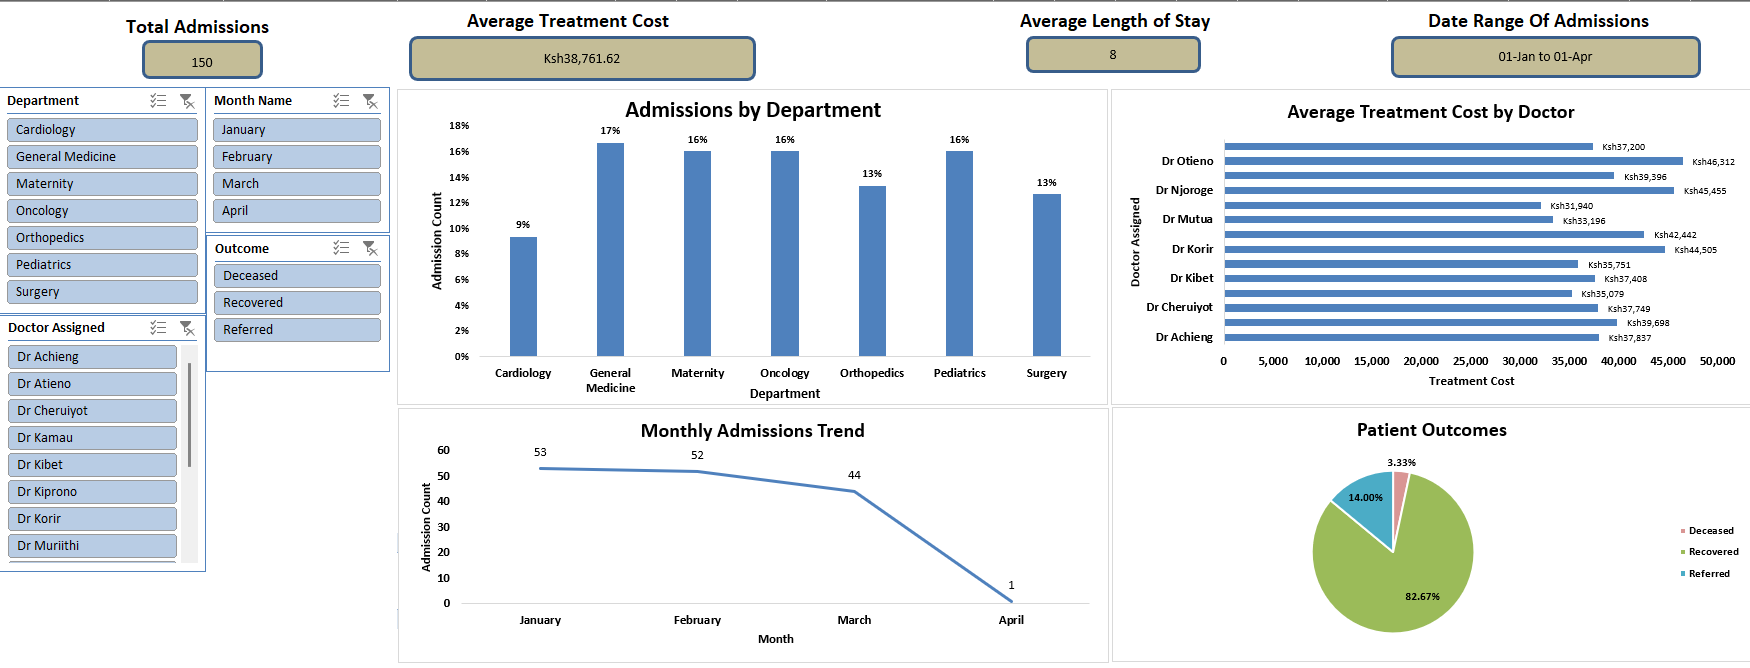

What the dashboard file says about the page in this screenshot:
{"tool":"powerbi","page":{"name":"Admissions Dashboard","canvas":[1280,720],"ordinal":0},"visuals":[{"type":"shape","box":[239.1,16.1,809.6,48.4],"z":0},{"type":"card","fields":{"Values":["HospitalData.Total Admissions"]},"box":[29,72,185.4,80.6],"z":1000,"group":"g1"},{"type":"shape","box":[13.4,166.6,175.5,491.6],"z":1000},{"type":"card","fields":{"Values":["HospitalData.Total Treatment Cost"]},"box":[254.9,72,191.6,81.5],"z":2000,"group":"g1"},{"type":"group","id":"g1","title":"Group 1","box":[29,72,1172.2,82.4],"z":2000},{"type":"card","fields":{"Values":["HospitalData.Average length of stay"]},"box":[487.1,72.4,188.1,81.5],"z":3000,"group":"g1"},{"type":"clusteredColumnChart","fields":{"Category":["HospitalData.Department"],"Y":["HospitalData.Total Admissions"]},"box":[194.3,156.7,496.1,245.4],"z":3000},{"type":"card","fields":{"Values":["HospitalData.Average Treatment Per Patient"]},"box":[715.8,72,257,82.4],"z":4000,"group":"g1"},{"type":"clusteredColumnChart","fields":{"Category":["HospitalData.Department"],"Y":["HospitalData.Total Treatment Cost"]},"box":[703,156.7,498.8,245.4],"z":4000},{"type":"card","fields":{"Values":["HospitalData.Mortality Rate"]},"box":[1013.1,72,188.1,81.5],"z":5000,"group":"g1"},{"type":"textbox","box":[239.1,16.1,809.6,48.4],"z":5000},{"type":"lineChart","fields":{"Category":["HospitalData.Month Name"],"Y":["HospitalData.Total Admissions"]},"box":[194.3,412.8,496.1,234.6],"z":6000},{"type":"donutChart","fields":{"Category":["HospitalData.Outcome"],"Y":["HospitalData.Total Admissions"]},"box":[703,412.8,498.8,234.6],"z":7000},{"type":"slicer","fields":{"Values":["HospitalData.Doctor Assigned"]},"box":[26,559.7,150.4,87.8],"z":8000},{"type":"slicer","fields":{"Values":["HospitalData.Department"]},"box":[26,323.3,150.4,219.4],"z":9000},{"type":"slicer","fields":{"Values":["HospitalData.Month Name"]},"box":[26,176.4,150.4,129],"z":10000},{"type":"textbox","box":[194.3,647.5,1006.6,63.6],"z":10001}]}

Visuals, with their boxes on the page's 1280x720 design canvas (x1, y1, x2, y2). These are canvas units, not pixel positions in the 1750x668 screenshot, which may show the page scaled, cropped or inside an application window:
shape: [239, 16, 1049, 64]
card - HospitalData.Total Admissions: [29, 72, 214, 153]
shape: [13, 167, 189, 658]
card - HospitalData.Total Treatment Cost: [255, 72, 446, 154]
"Group 1" group: [29, 72, 1201, 154]
card - HospitalData.Average length of stay: [487, 72, 675, 154]
clusteredColumnChart - HospitalData.Department x HospitalData.Total Admissions: [194, 157, 690, 402]
card - HospitalData.Average Treatment Per Patient: [716, 72, 973, 154]
clusteredColumnChart - HospitalData.Department x HospitalData.Total Treatment Cost: [703, 157, 1202, 402]
card - HospitalData.Mortality Rate: [1013, 72, 1201, 154]
textbox: [239, 16, 1049, 64]
lineChart - HospitalData.Month Name x HospitalData.Total Admissions: [194, 413, 690, 647]
donutChart - HospitalData.Outcome x HospitalData.Total Admissions: [703, 413, 1202, 647]
slicer - HospitalData.Doctor Assigned: [26, 560, 176, 648]
slicer - HospitalData.Department: [26, 323, 176, 543]
slicer - HospitalData.Month Name: [26, 176, 176, 305]
textbox: [194, 648, 1201, 711]
